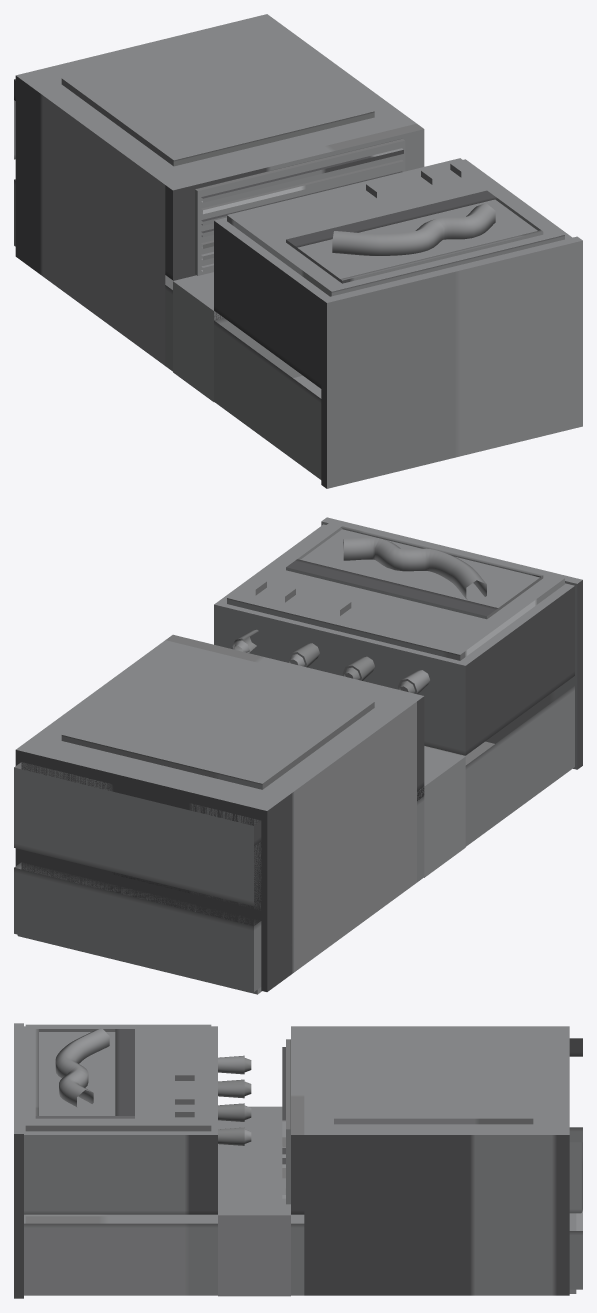
The picture shows the model from 3 angles, top to bottom: view 1: azimuth 30°, elevation 25°; view 2: azimuth 150°, elevation 25°; view 3: azimuth 270°, elevation 25°; orthographic projection. The views are drawn at different scales.
Size of the model in its own units: 0.79 by 0.613 by 1.72.
